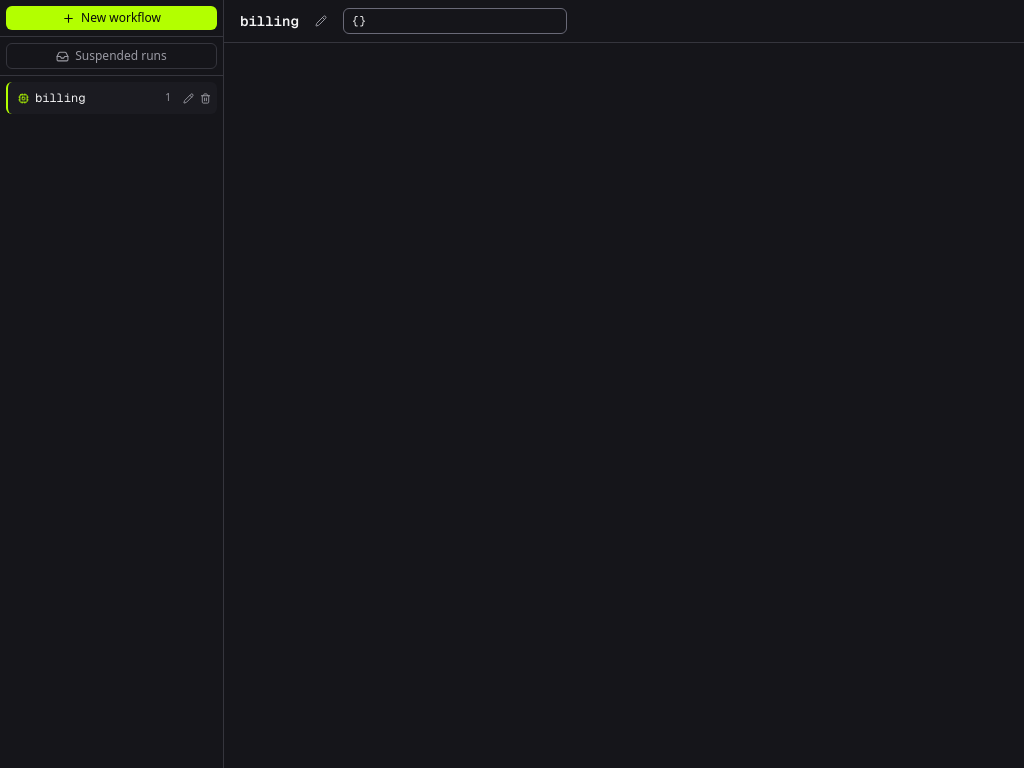
Test: Workflows: editing a definition that could not be read › a 404 on /workflows/:name/def DOES open the editor (Save control present)
What coordinates should you click on to do the following:
click the 2nd button titled "Edit"
I would click on:
 (188, 98)
Its box is x1=181 y1=90 x2=196 y2=106.
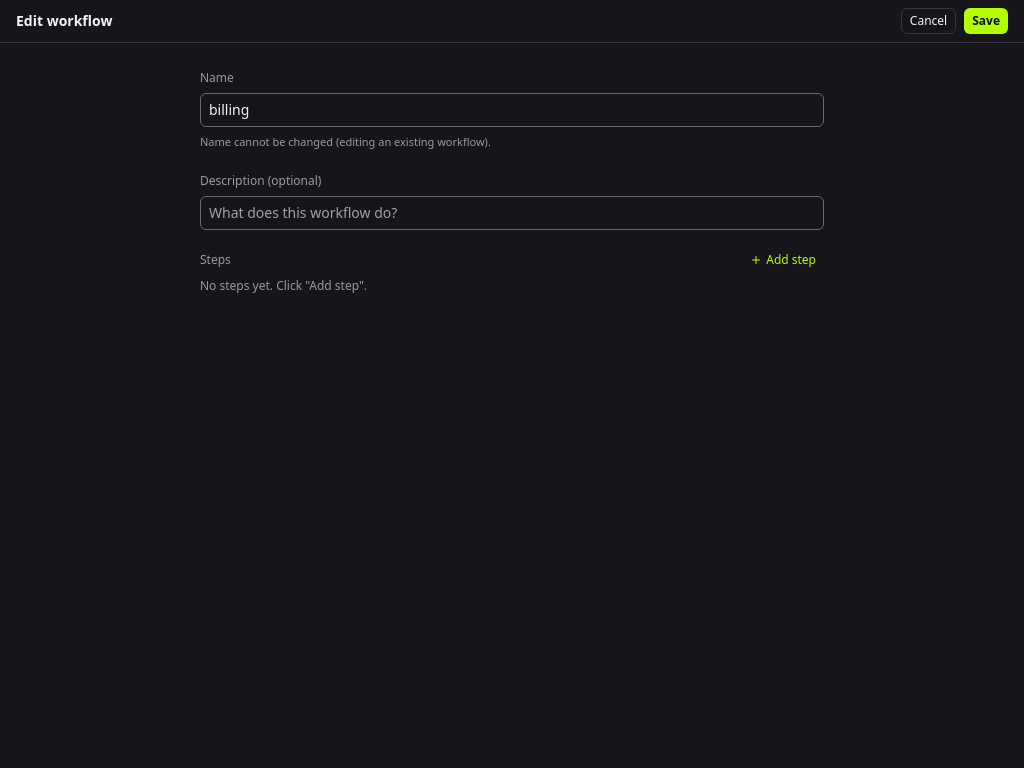
Expected: the button "Save" is shown, x1=964 y1=8 x2=1008 y2=34
